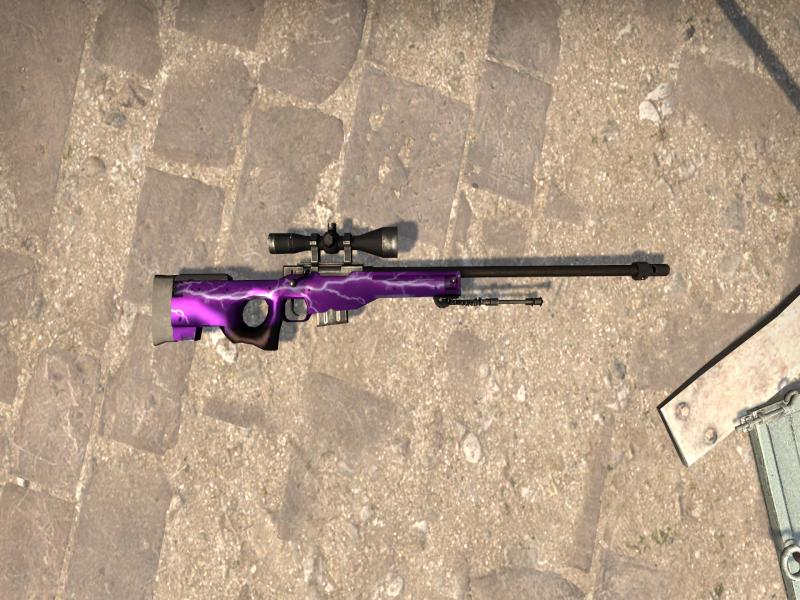AWP: (152, 223, 671, 349)
